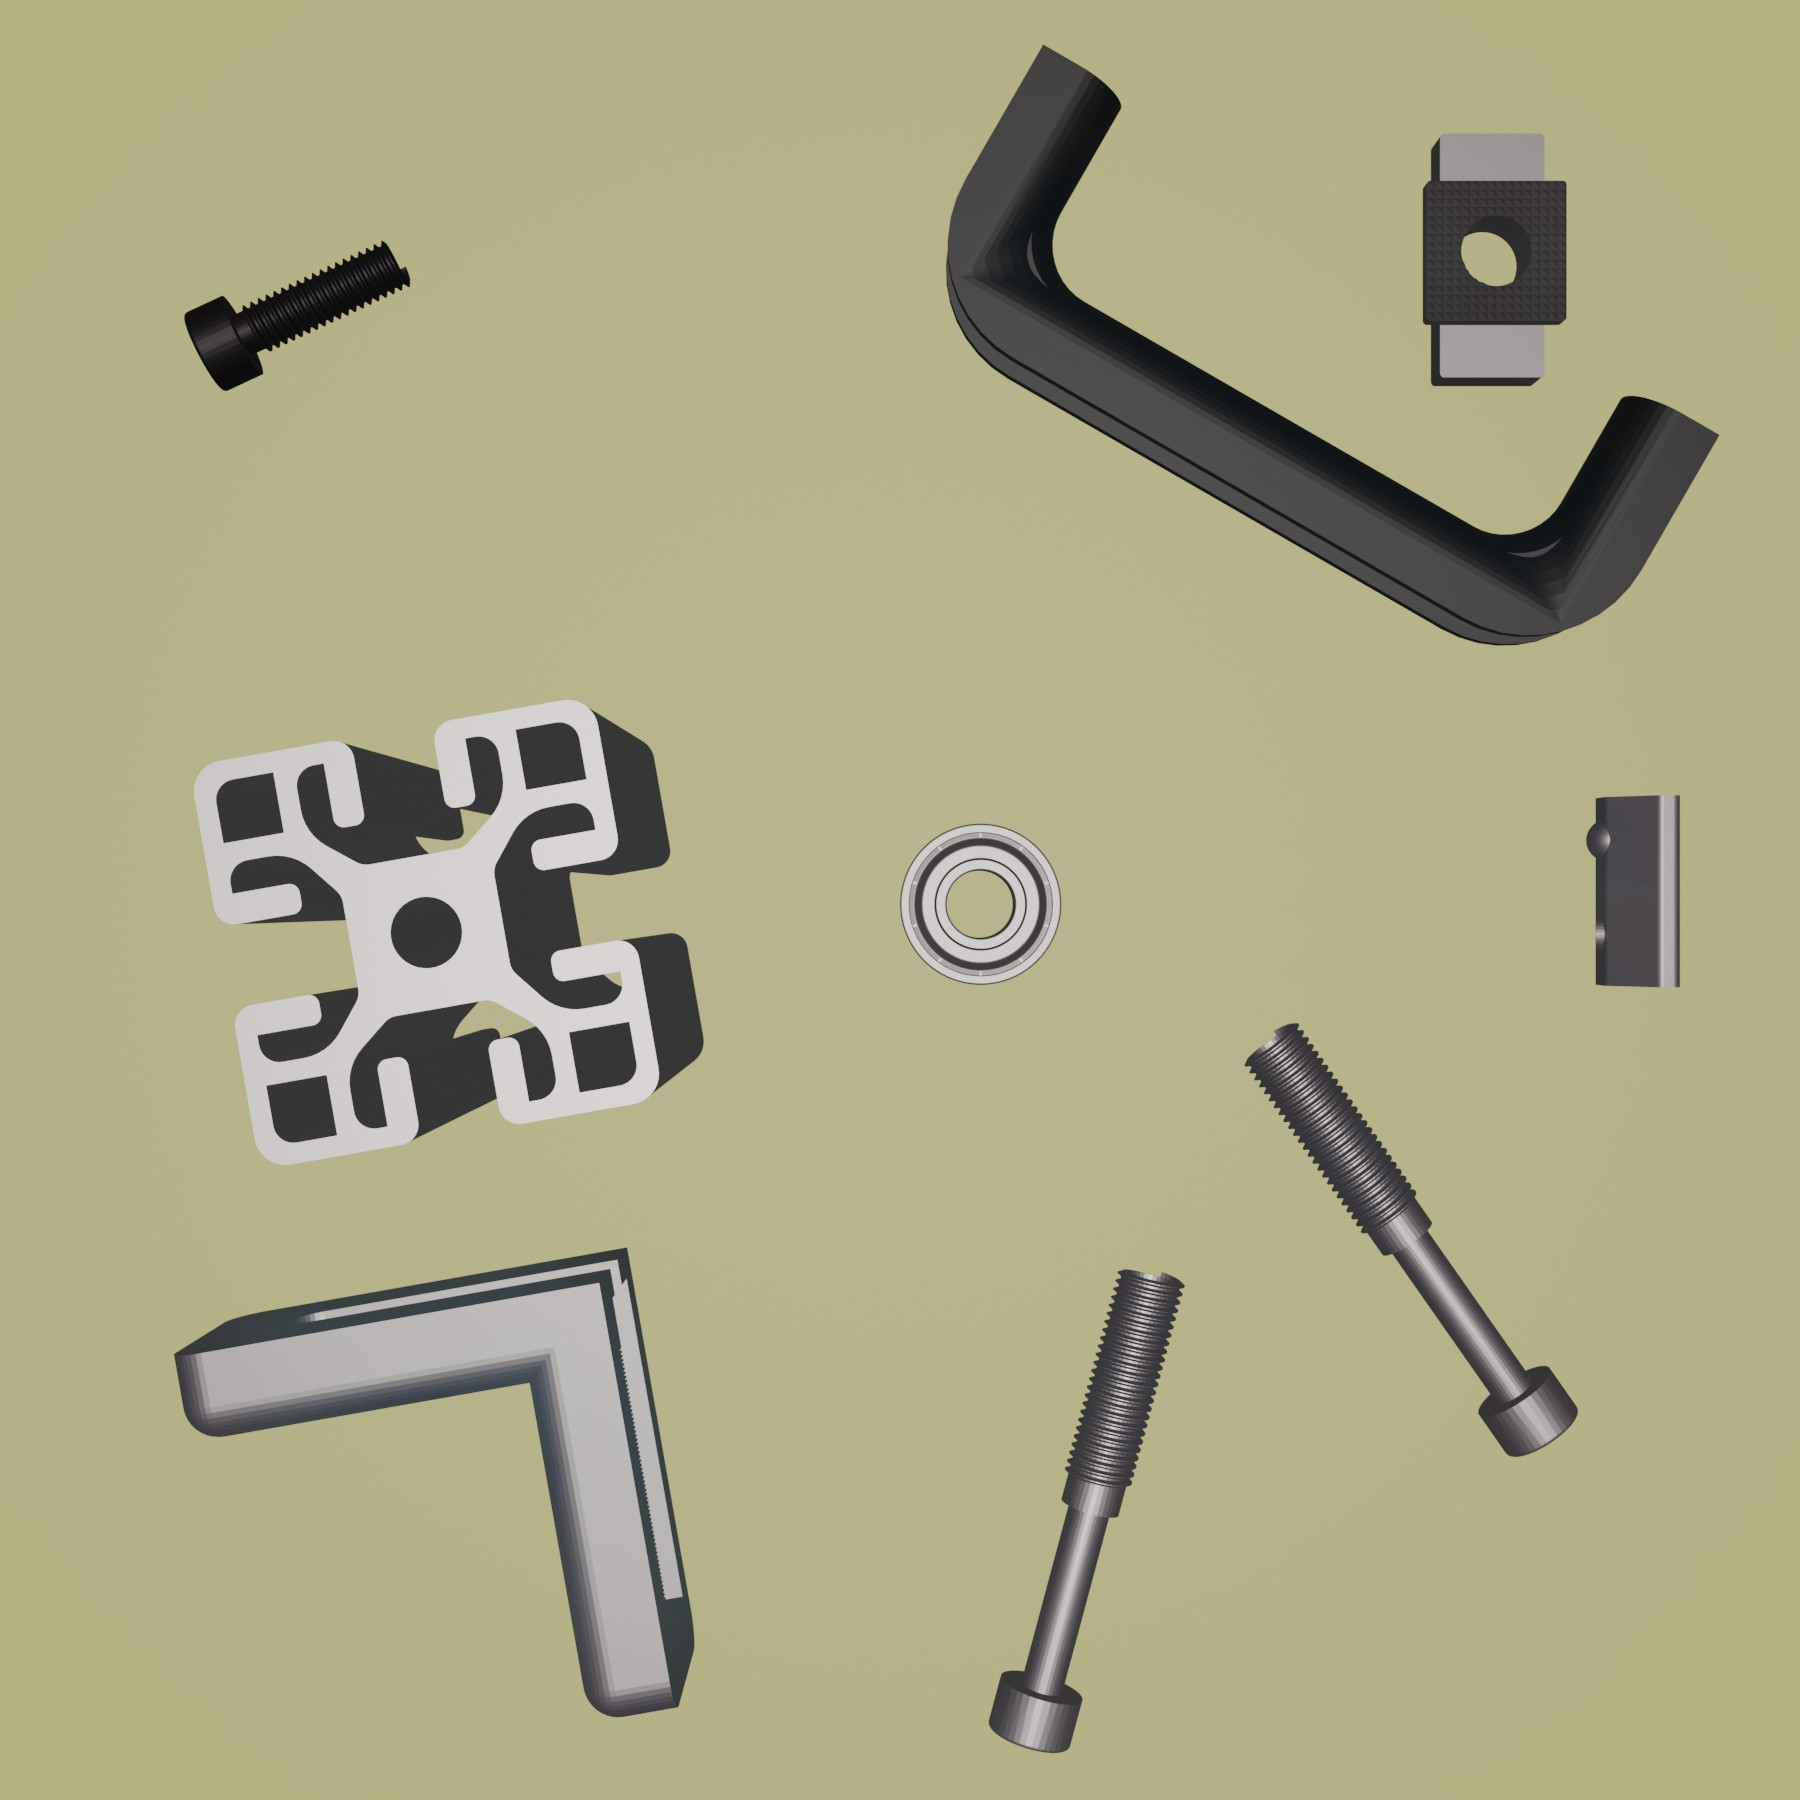Aluminium Extension: (190, 699, 705, 1172)
Ball Bearing: (898, 823, 1066, 989)
Multiwinkel: (166, 1248, 701, 1719)
Pull Handle: (941, 41, 1719, 649)
Shoulder Socket Head Cap Screw: (1240, 1019, 1579, 1459), (986, 1264, 1188, 1757)
Socket Head Cap Screw: (181, 236, 415, 392)
T Nut Square: (1414, 125, 1571, 392)
T Spring Nut: (1577, 788, 1688, 992)
